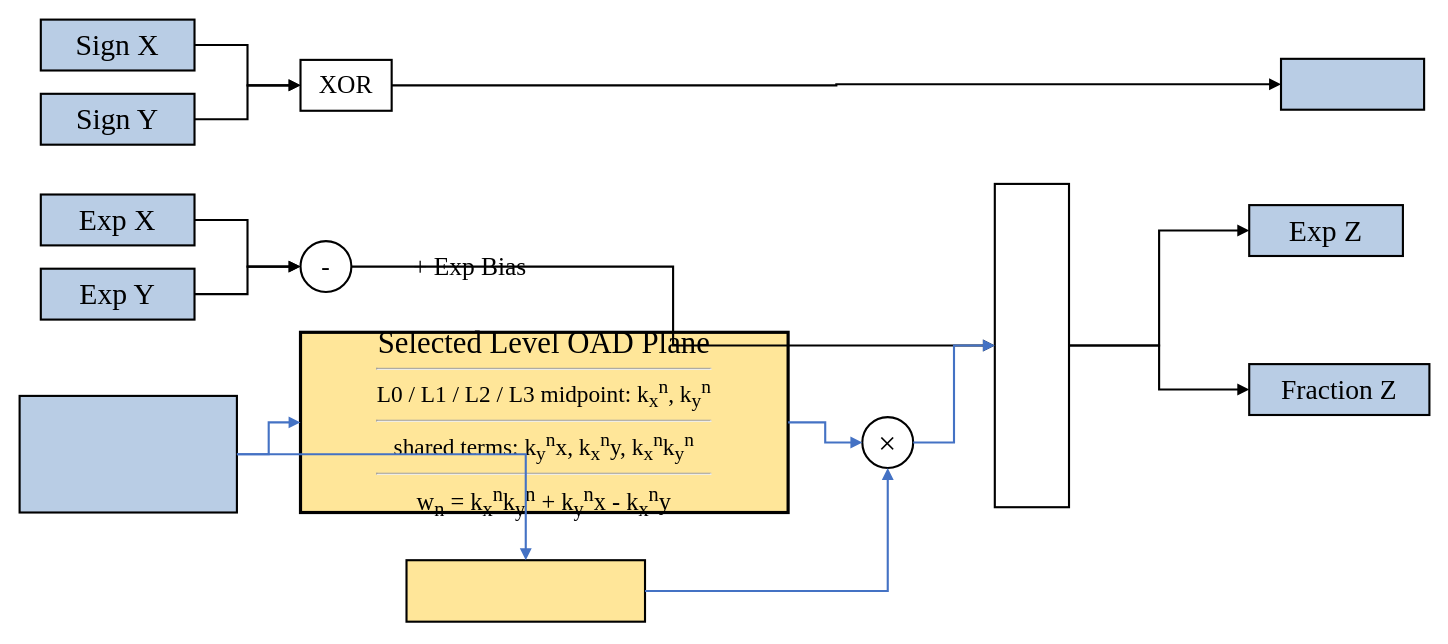
The diagram is 1448 pixels wide and 644 high, and some of its shapes have lost their labels. Here are the shapes that lost their labels. From the top down, the centre of each, then its label:
At (x=1352, y=83): "Sign Z".
At (x=1031, y=345): "N O R M A L I Z E".
At (x=127, y=453): "Control Fraction X Fraction Y".
At (x=525, y=590): "LUT / constant 1/(k y n ) 2".
